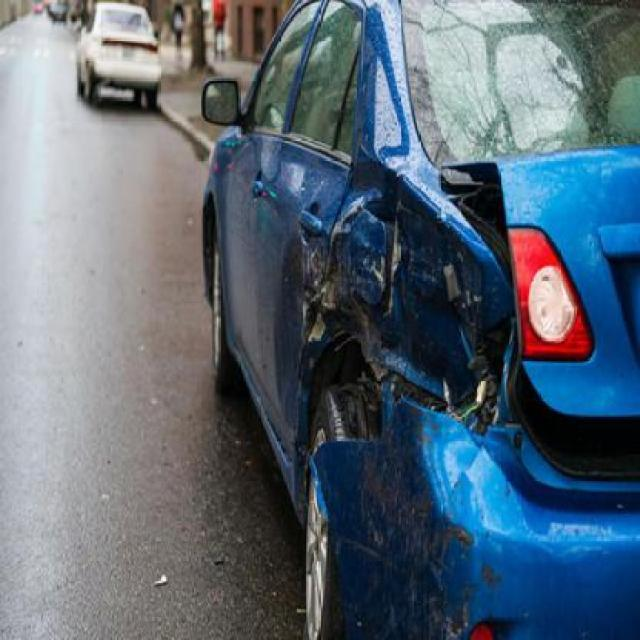quaterpanel-dent: (344, 189, 503, 401)
rear-bumper-dent: (316, 359, 535, 570)
